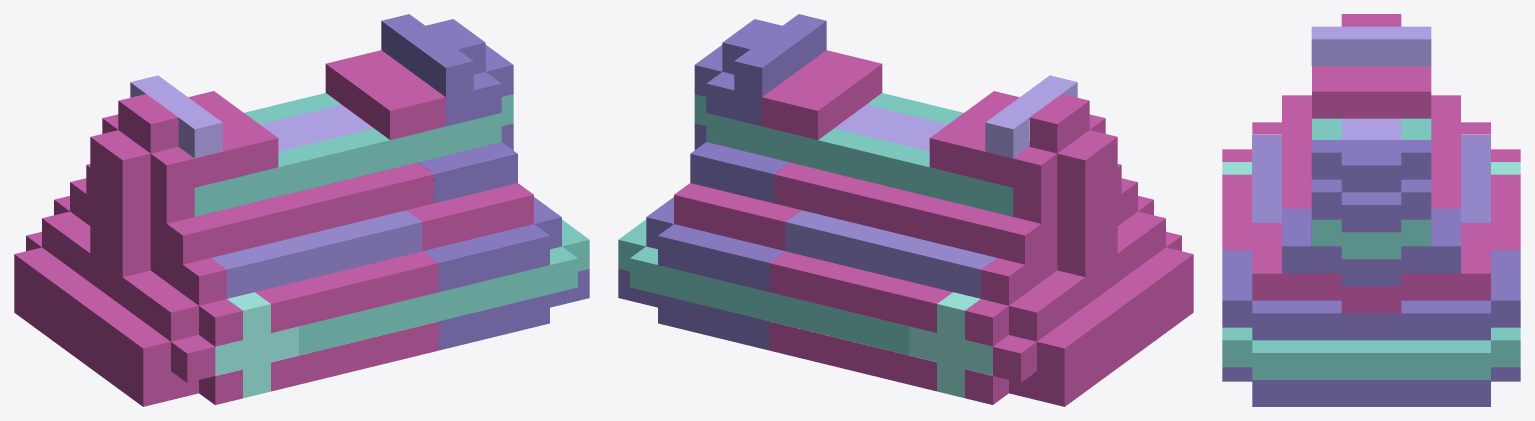
Rendered from 210_hat_monhat.glb.
3 renders of one model, left to right at view 1: azimuth 30°, elevation 25°; view 2: azimuth 150°, elevation 25°; view 3: azimuth 270°, elevation 25°, orthographic. The views are drawn at different scales.
Bounding box in the file's own units: 16 × 8 × 10.
